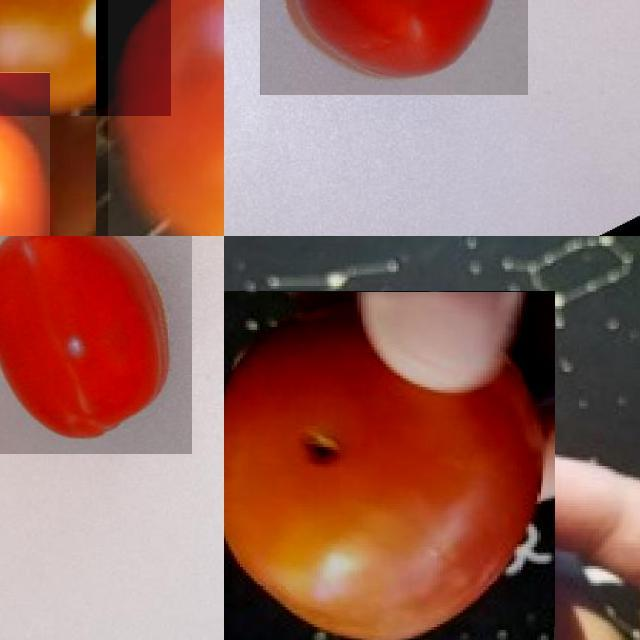Fresh Tomato: (0, 236, 192, 454), (108, 0, 224, 236), (260, 0, 527, 95), (0, 0, 170, 116)
Rotten Tomato: (224, 291, 555, 640)
